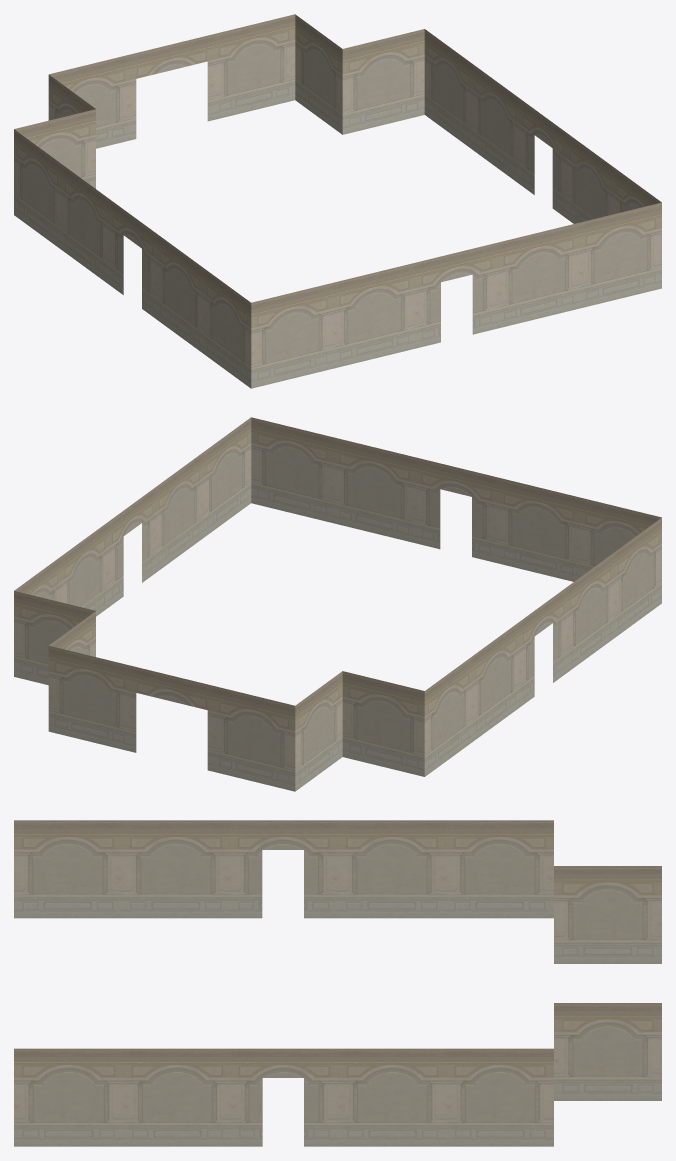
File: Homeworld_Interior_Fd_Room_P_Filling_01_Vo.fbx
3 renders of one model, top to bottom at view 1: azimuth 30°, elevation 25°; view 2: azimuth 150°, elevation 25°; view 3: azimuth 270°, elevation 25°, orthographic. The views are drawn at different scales.
Parts seen in each view (by area): view 1: Homeworld_Interior_Fd_Room_P_Filling_01_Vo; view 2: Homeworld_Interior_Fd_Room_P_Filling_01_Vo; view 3: Homeworld_Interior_Fd_Room_P_Filling_01_Vo.
Part boxes in pixels (x1,y1,x2,y2): Homeworld_Interior_Fd_Room_P_Filling_01_Vo: (14, 14, 661, 388); Homeworld_Interior_Fd_Room_P_Filling_01_Vo: (14, 417, 661, 791); Homeworld_Interior_Fd_Room_P_Filling_01_Vo: (14, 820, 661, 1146).
Size of the model in its own units: 25 by 5 by 30.
